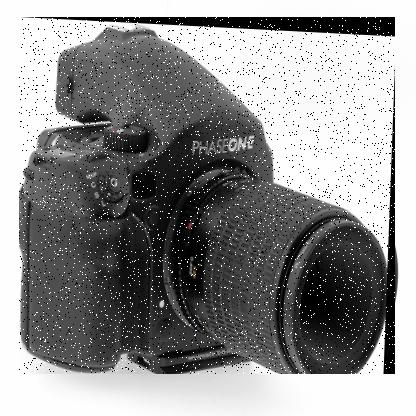Camera: (20, 18, 397, 376)
